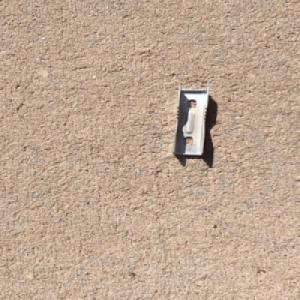ClampPart: (171, 84, 213, 156)
